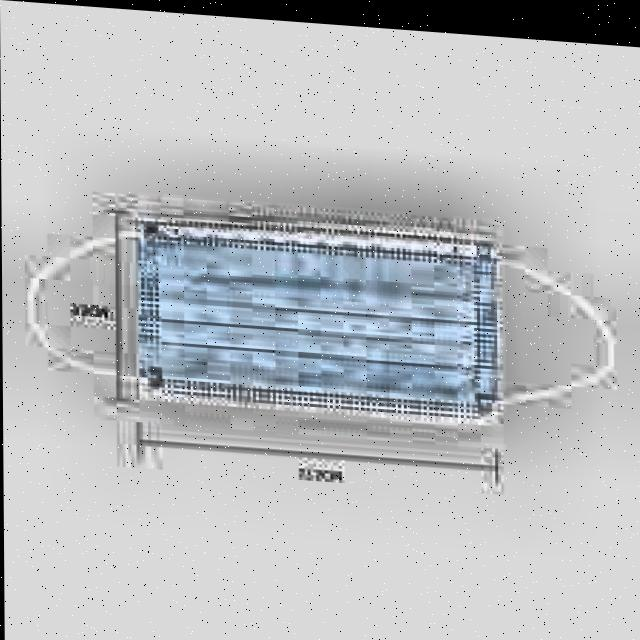trash: (128, 210, 503, 430)
